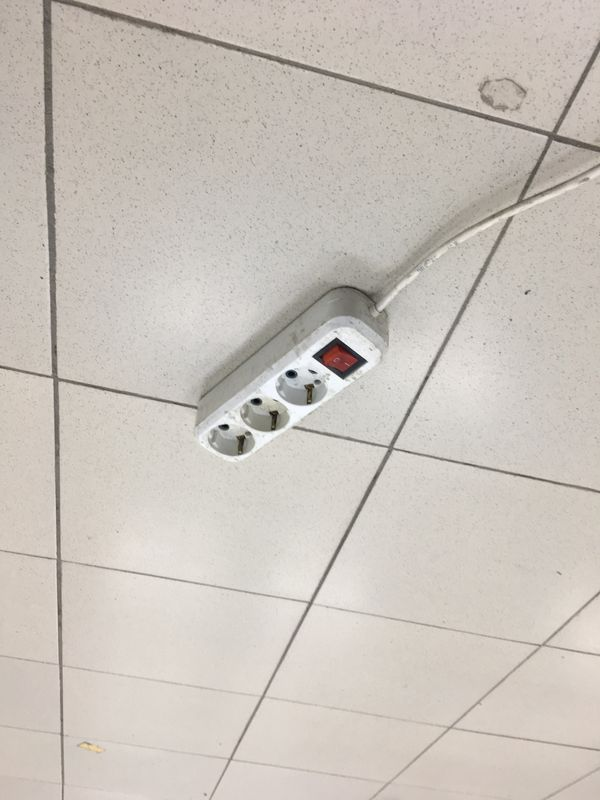socket: (185, 280, 395, 473)
